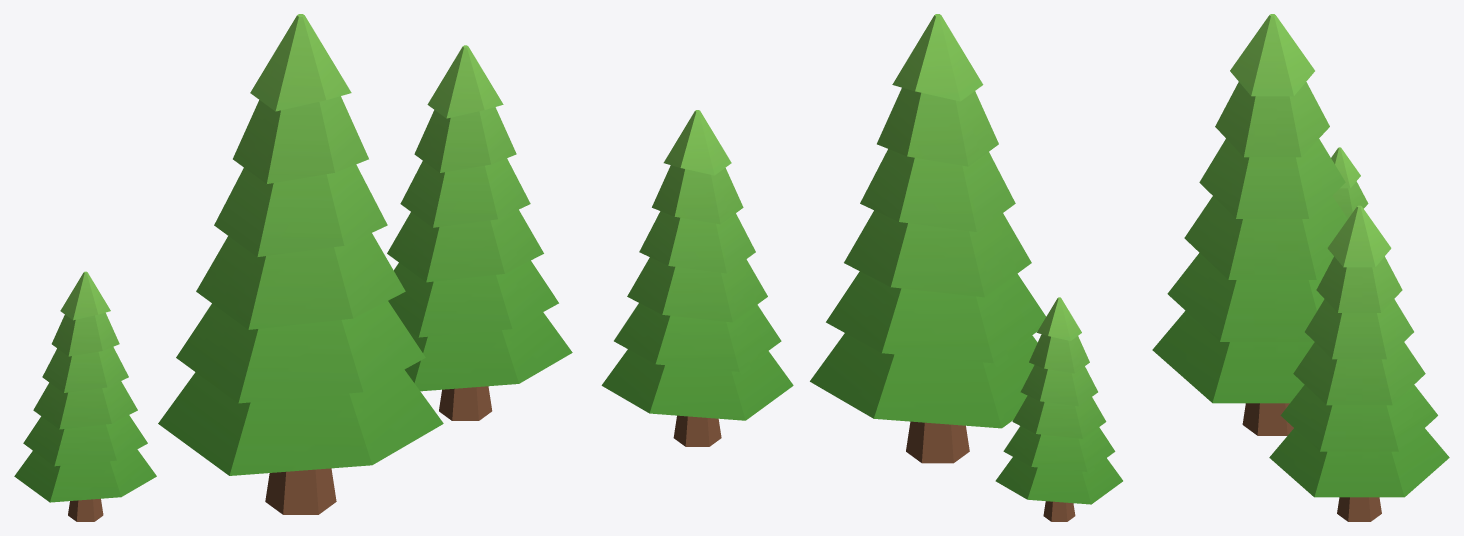
File: Natures_Fir Tree.fbx
3 views of the same model, side by side, from view 1: azimuth 30°, elevation 25°; view 2: azimuth 150°, elevation 25°; view 3: azimuth 270°, elevation 25° (orthographic). The views are drawn at different scales.
Parts seen in each view (by area): view 1: Tree; view 2: Tree; view 3: Tree.
Part boxes in pixels (<box>): Tree: <box>14,14,572,521</box>; Tree: <box>601,14,1122,521</box>; Tree: <box>1152,14,1449,521</box>.
Bounding box in the file's own units: 831 × 735 × 484.
Materials: 1 (1 with a texture image).
